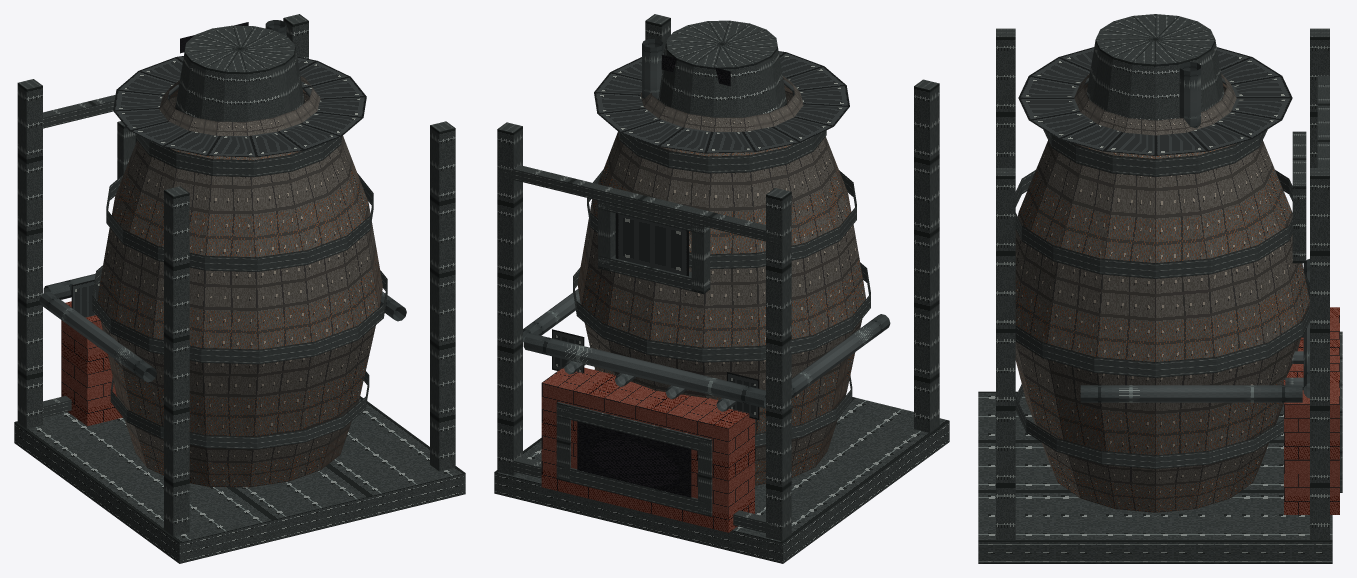
File: blast_furnace_large.obj
The picture shows the model from 3 angles, left to right: view 1: azimuth 30°, elevation 25°; view 2: azimuth 150°, elevation 25°; view 3: azimuth 270°, elevation 25°; orthographic projection. The views are drawn at different scales.
Parts seen in each view (by area): view 1: main_weathered_shell, heavy_base_slab, top_service_deck, charging_throat, back_left_support_column, back_right_support_column, front_left_support_column, riveted_band_2, front_cast_house_block, riveted_band_3, riveted_band_4, riveted_band_1 (+5 smaller); view 2: main_weathered_shell, heavy_base_slab, front_cast_house_block, top_service_deck, charging_throat, back_left_support_column, front_left_support_column, front_right_support_column, tap_hole_off_or_glow, front_crossbrace_high, front_bustle_pipe, riveted_band_2 (+18 smaller); view 3: main_weathered_shell, heavy_base_slab, top_service_deck, charging_throat, front_right_support_column, back_right_support_column, front_cast_house_block, riveted_band_3, riveted_band_2, right_bustle_return, riveted_band_1, riveted_band_4 (+7 smaller).
Boxes of the visible parts, <box> form: main_weathered_shell: <box>97,76,382,487</box>; heavy_base_slab: <box>14,396,465,563</box>; top_service_deck: <box>113,56,366,157</box>; charging_throat: <box>175,25,304,121</box>; back_left_support_column: <box>164,186,189,536</box>; back_right_support_column: <box>430,121,455,471</box>; front_left_support_column: <box>17,79,42,428</box>; riveted_band_2: <box>92,265,387,364</box>; front_cast_house_block: <box>61,301,122,426</box>; riveted_band_3: <box>106,173,373,271</box>; riveted_band_4: <box>136,134,342,177</box>; riveted_band_1: <box>110,371,369,449</box>; main_weathered_shell: <box>577,76,865,485</box>; heavy_base_slab: <box>494,395,949,563</box>; front_cast_house_block: <box>541,367,754,532</box>; top_service_deck: <box>594,51,849,153</box>; charging_throat: <box>658,20,786,117</box>; back_left_support_column: <box>914,79,939,432</box>; front_left_support_column: <box>766,188,791,541</box>; front_right_support_column: <box>497,122,522,475</box>; tap_hole_off_or_glow: <box>577,421,691,497</box>; front_crossbrace_high: <box>499,165,779,244</box>; front_bustle_pipe: <box>523,333,765,408</box>; riveted_band_2: <box>573,262,870,362</box>; main_weathered_shell: <box>1015,73,1309,512</box>; heavy_base_slab: <box>978,391,1332,563</box>; top_service_deck: <box>1018,47,1292,155</box>; charging_throat: <box>1086,14,1224,120</box>; front_right_support_column: <box>1310,168,1329,540</box>; back_right_support_column: <box>996,168,1015,540</box>; front_cast_house_block: <box>1284,307,1339,514</box>; riveted_band_3: <box>1015,170,1292,278</box>; riveted_band_2: <box>1015,271,1309,377</box>; right_bustle_return: <box>1080,385,1302,402</box>; riveted_band_1: <box>1015,384,1283,468</box>; riveted_band_4: <box>1043,129,1267,176</box>.
Bounding box in the file's own units: 2.84 × 3.98 × 2.92.
